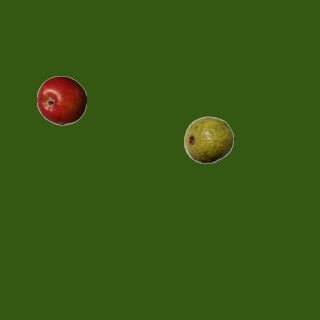Apple Braeburn: (36, 75, 86, 125)
Guava: (183, 114, 233, 164)
